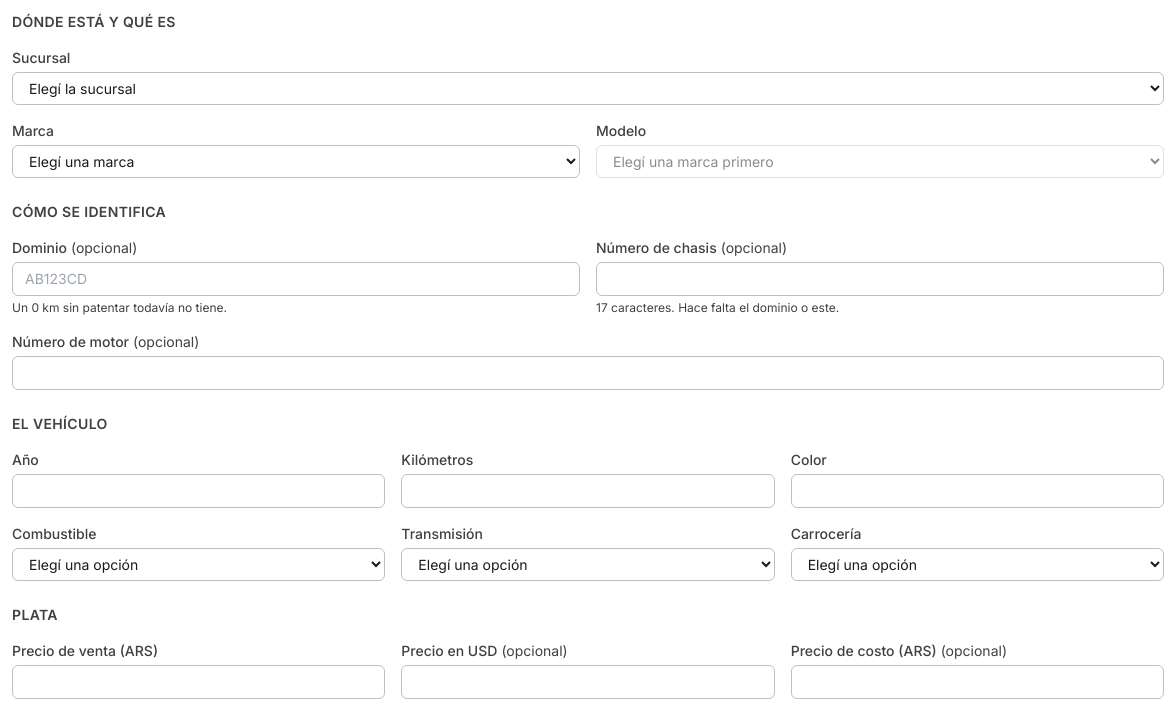
Test: la cascada marca → modelo › carga los modelos de la marca elegida
Select "Chery" in the dropdown labelled "Marca" at (296, 162), box [12,145,580,178]
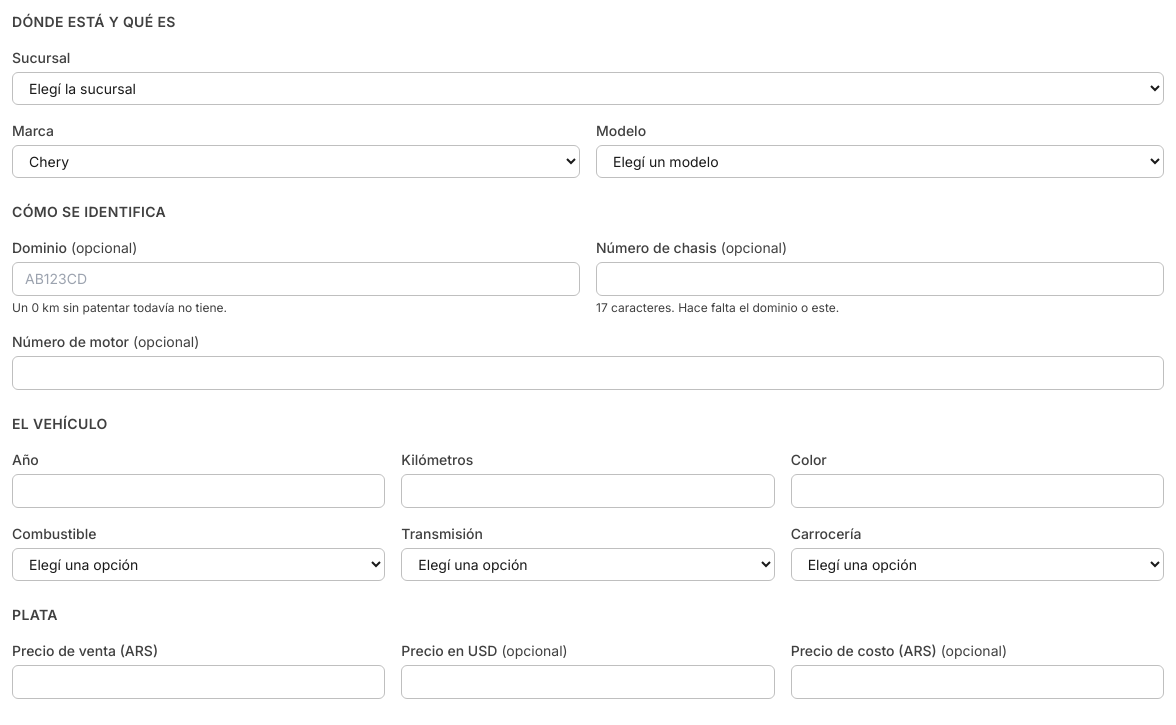
Result: the dropdown labelled "Modelo" is enabled at [596,145,1164,178]
